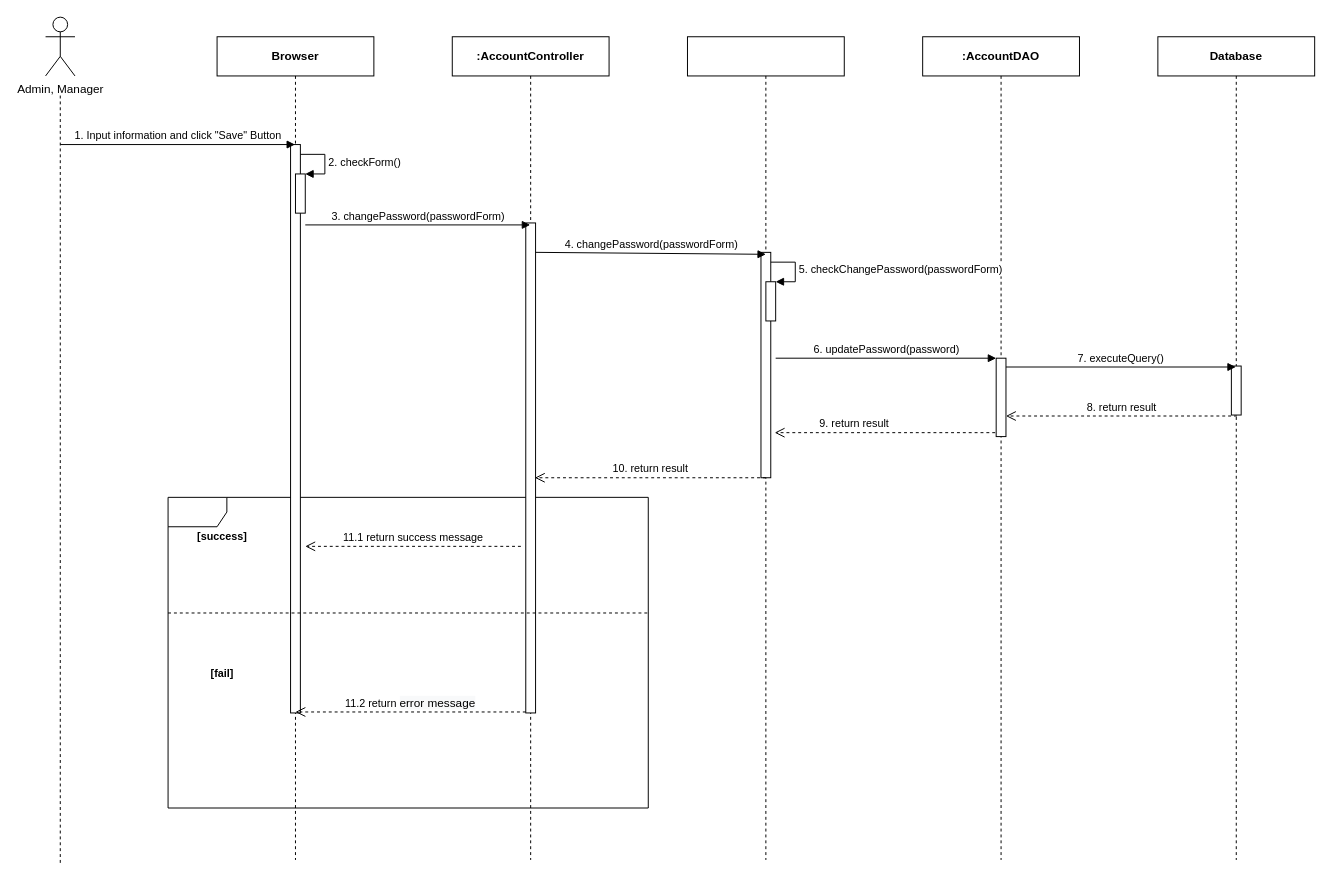
Image size: 1332x881. Some labels were removed from this diagram. Each missing label, with the centre of its shape:
:AccountService: the point at 765,448
alt: the point at 407,652
